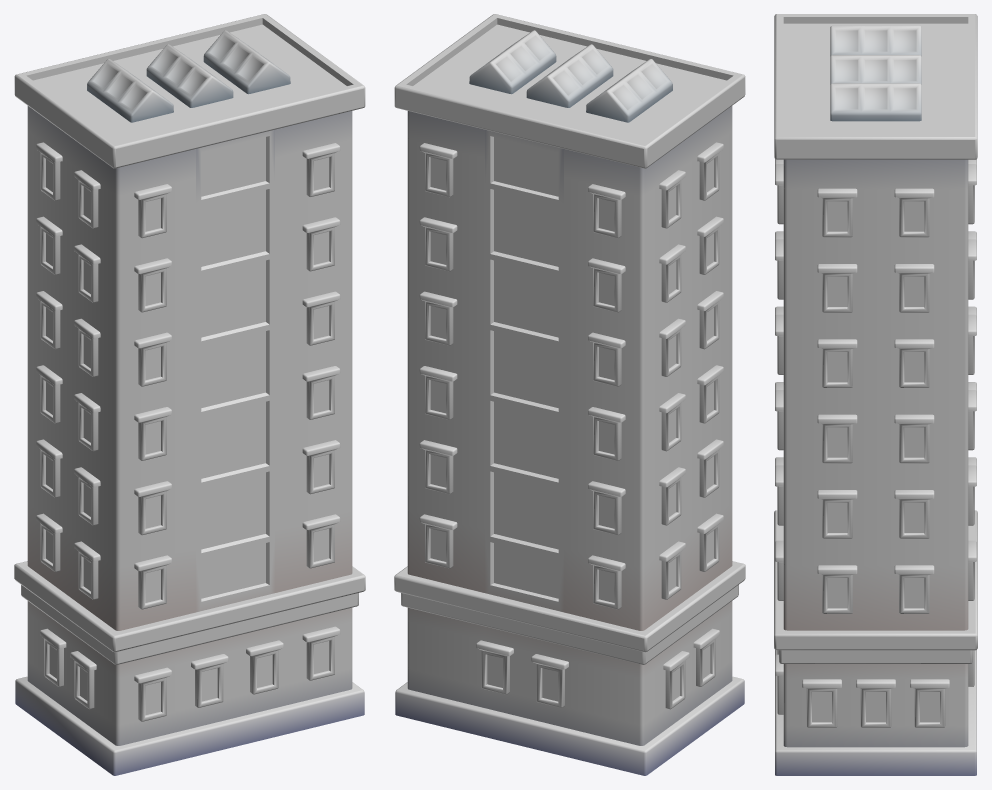
The model's file is NF_Bld_Apartment 46.fbx.
3 renders of one model, left to right at view 1: azimuth 30°, elevation 25°; view 2: azimuth 150°, elevation 25°; view 3: azimuth 270°, elevation 25°, orthographic.
Visible parts, largest first — view 1: Apart_46; view 2: Apart_46; view 3: Apart_46.
Part boxes in pixels (left/top/right/bottom): Apart_46: left=14, top=14, right=365, bottom=775; Apart_46: left=394, top=14, right=745, bottom=775; Apart_46: left=774, top=14, right=977, bottom=775.
Bounding box in the file's own units: 9.62 × 23.6 × 6.62.
